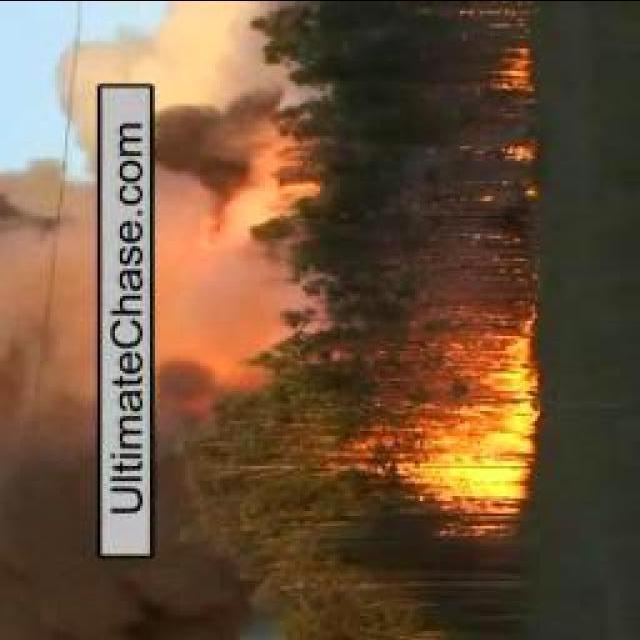Fire: (403, 322, 533, 494), (489, 47, 538, 95), (498, 142, 538, 166)
